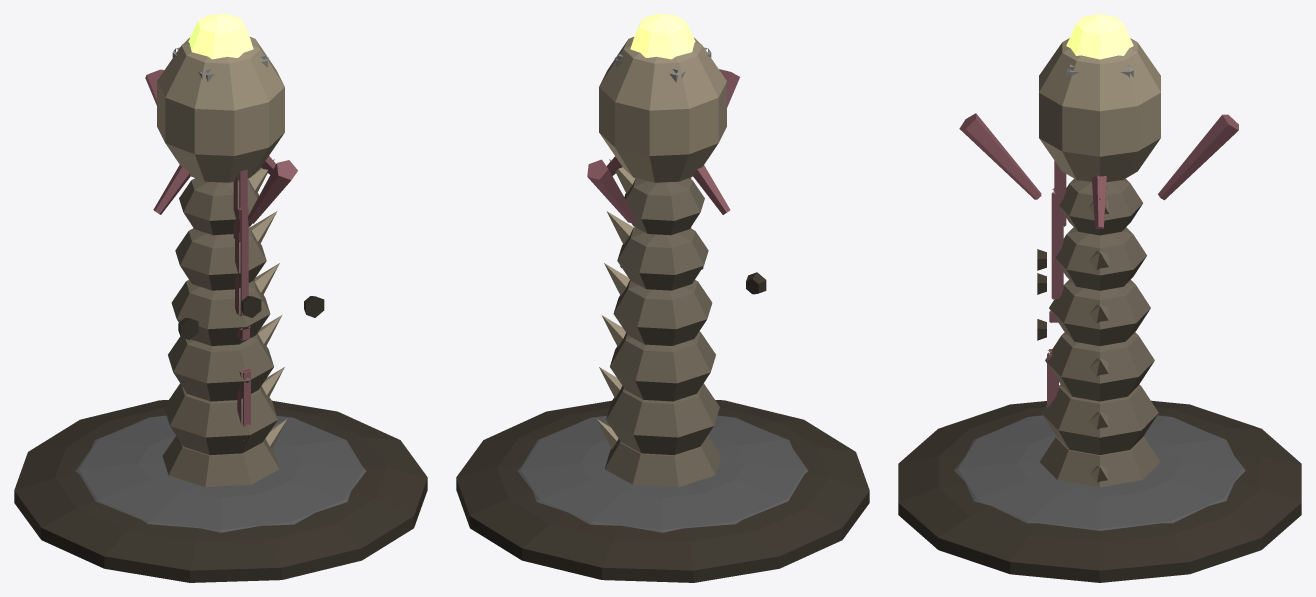
Rendered from bl_spire.glb.
3 views of the same model, side by side, from view 1: azimuth 30°, elevation 25°; view 2: azimuth 150°, elevation 25°; view 3: azimuth 270°, elevation 25° (orthographic).
Visible parts, largest first — view 1: body; view 2: body; view 3: body.
Part boxes in pixels (x1,y1,x2,y2): body: (14,14,427,582); body: (456,14,869,582); body: (898,14,1301,582).
Size of the model in its own units: 27.45 by 36.75 by 26.77.
